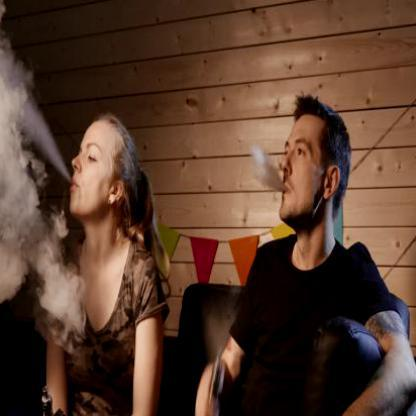person: (226, 94, 370, 415), (46, 108, 162, 415)
smoke: (0, 33, 44, 312), (37, 212, 88, 349), (252, 144, 283, 196)
